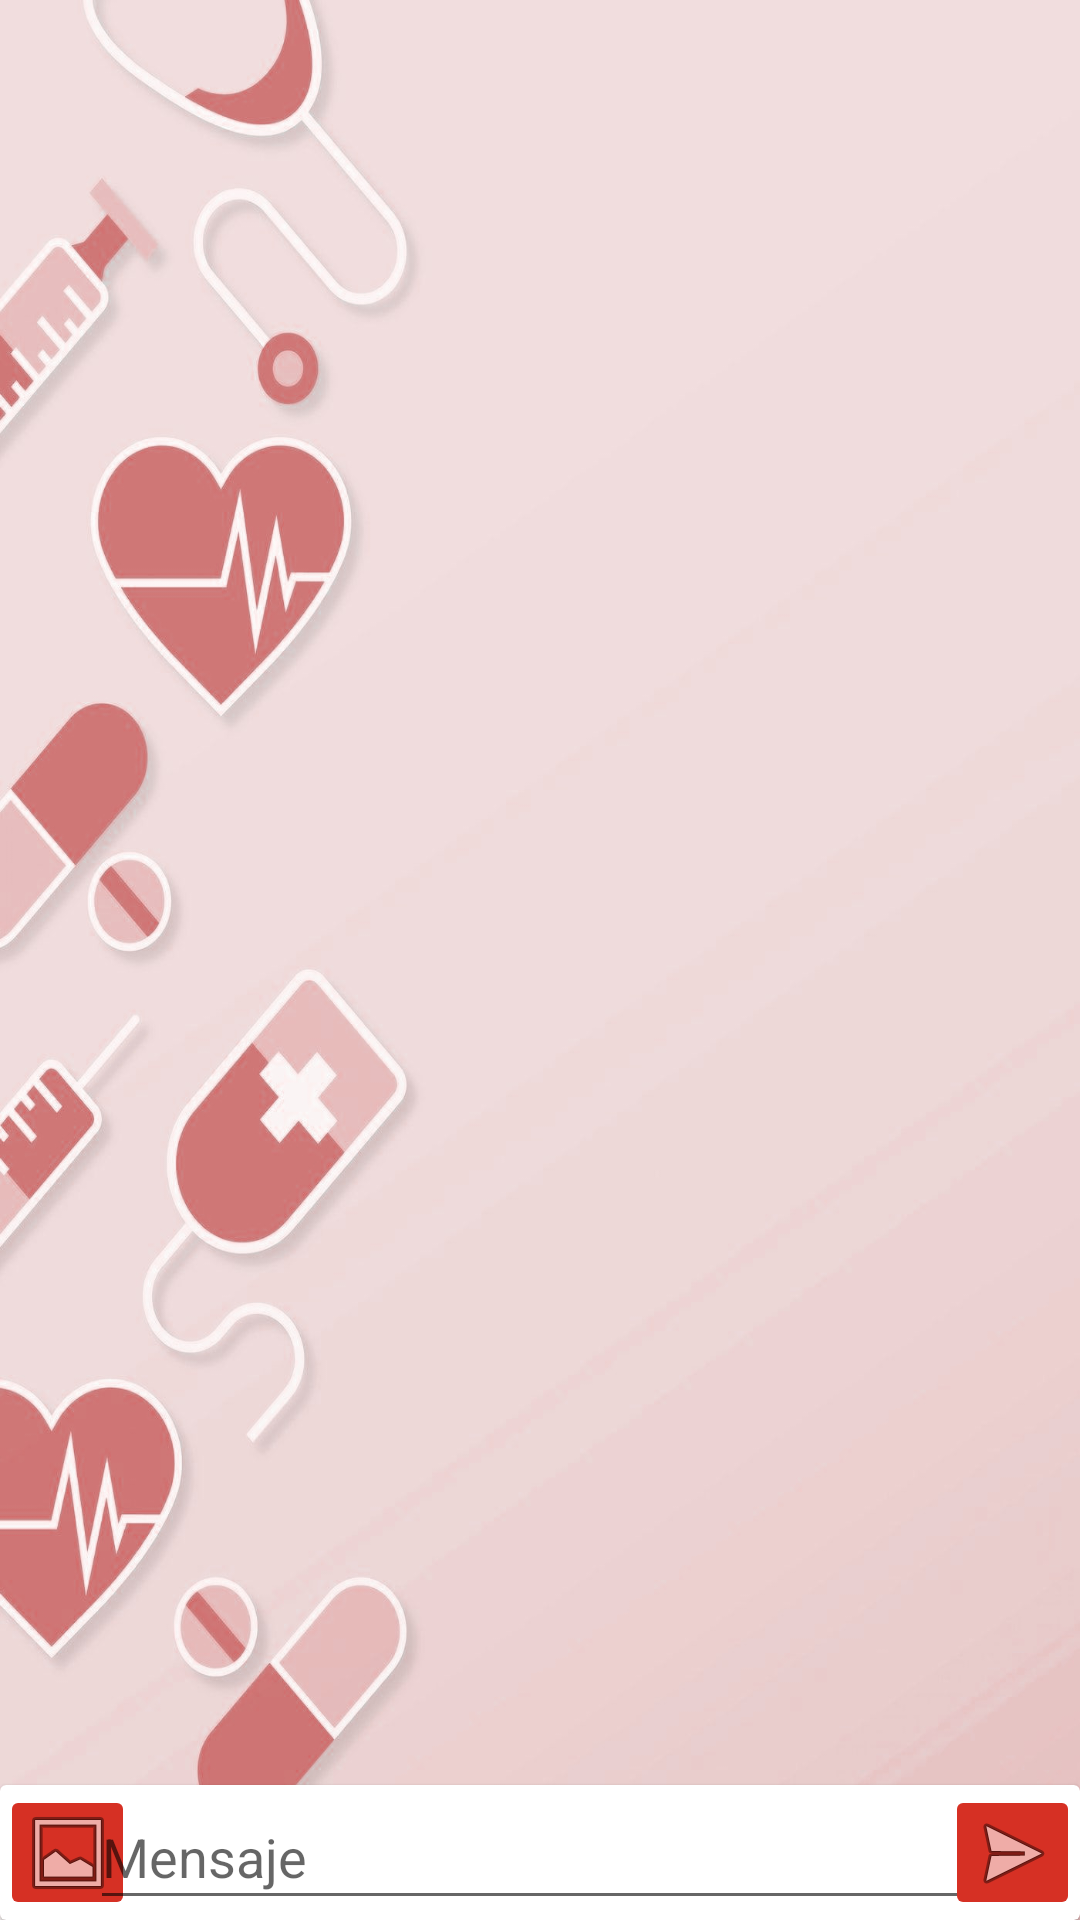

Screen size 1080×1920. Icon name, then its box in pixels as (x1, y1, x2, y2):
gallery: (0, 1785, 135, 1920)
send: (945, 1785, 1080, 1920)
